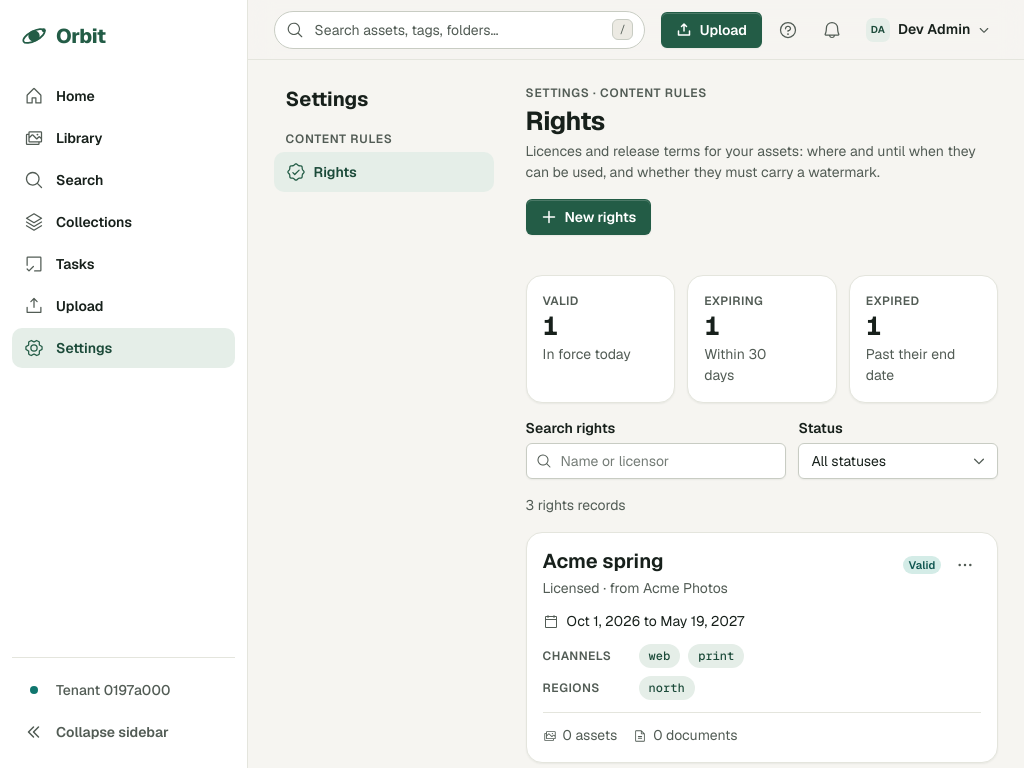
Scenario: rights list › filters by status and by name, keeps both in the URL, and keeps the summary on the whole list
Select "Expiring" in the dropdown labelled "Status" at (898, 461), box x1=798 y1=443 x2=998 y2=479
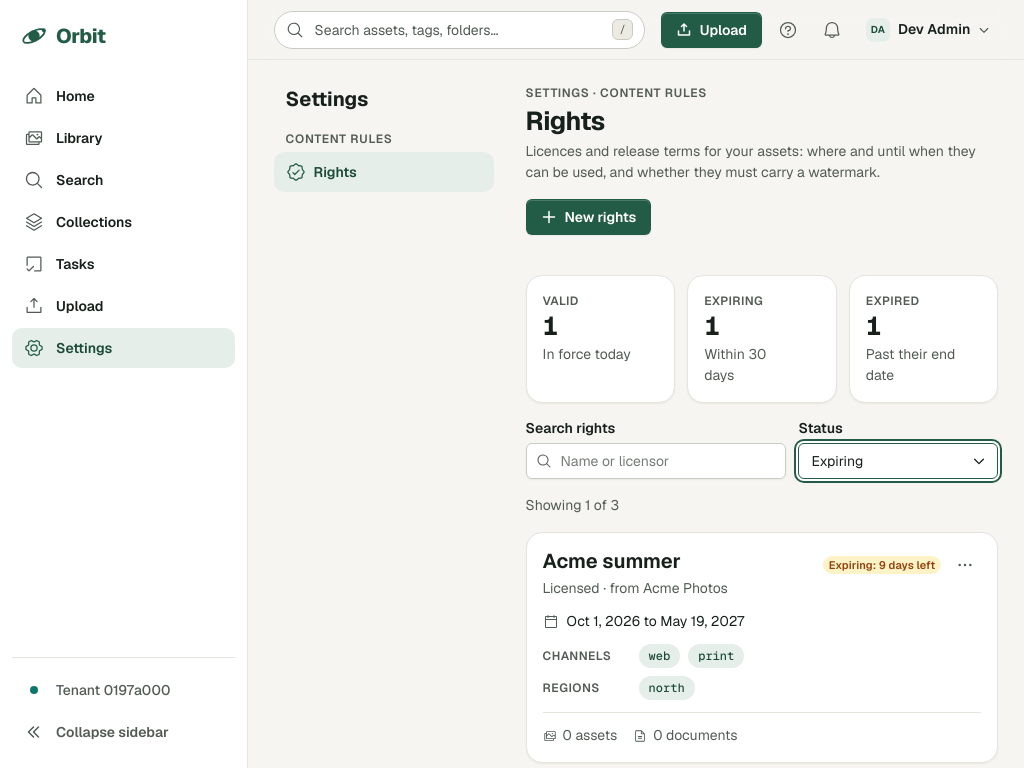
Expected: the heading "Acme summer" is shown, x1=543 y1=549 x2=681 y2=574
Expected: the button "Acme spring" is gone
Expected: the text "Showing 1 of 3" is shown, x1=526 y1=496 x2=619 y2=514
Select "All statuses" in the dropdown labelled "Status" at (898, 461), box x1=798 y1=443 x2=998 y2=479
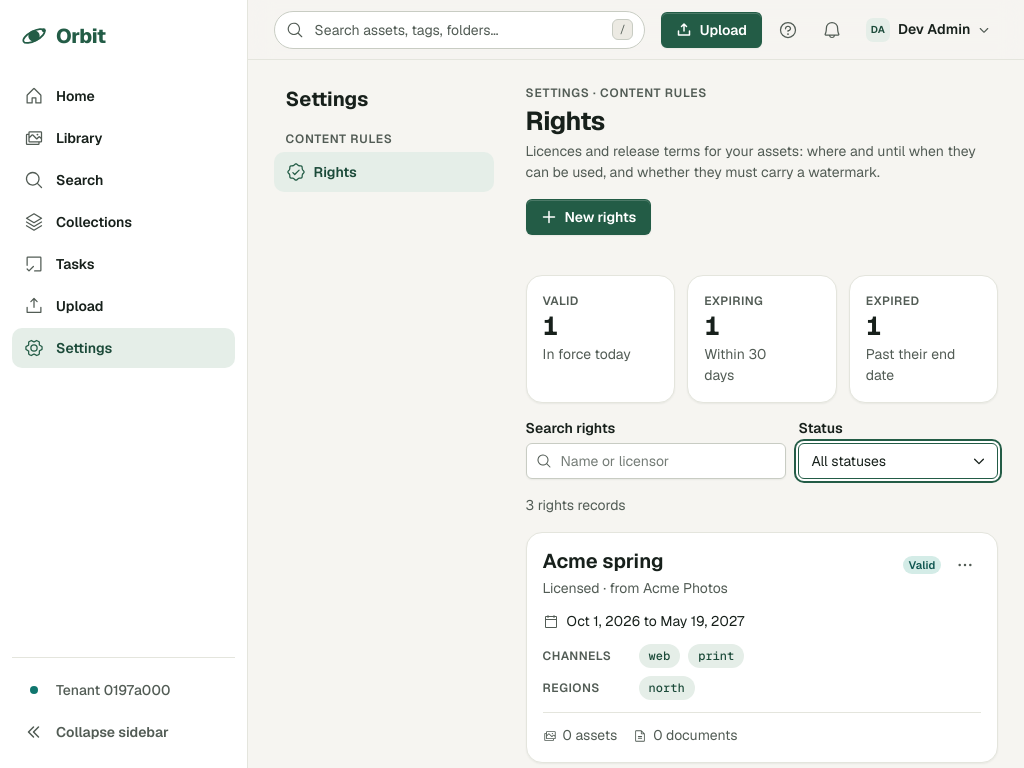
Type "zed" into the search field labelled "Search rights" at (656, 461), box x1=526 y1=443 x2=786 y2=479
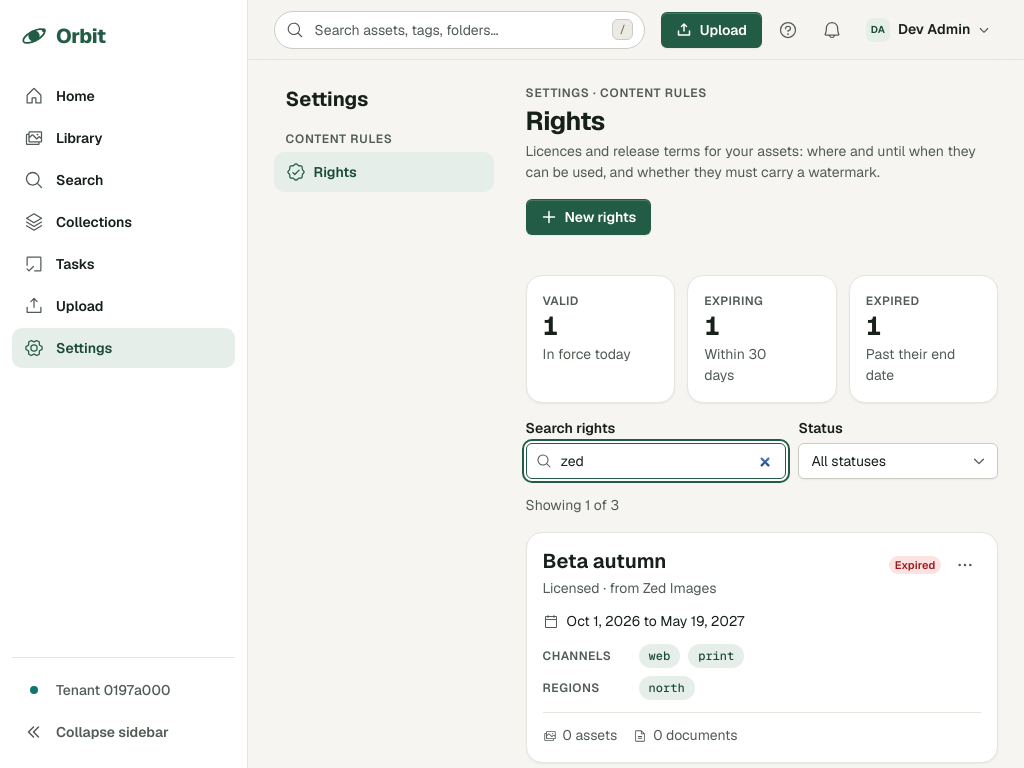
Expected: the heading "Beta autumn" is shown, x1=543 y1=549 x2=666 y2=574
Replace the text in the search field labelled "Search rights" with "nothing like this" at (656, 461), box x1=526 y1=443 x2=786 y2=479
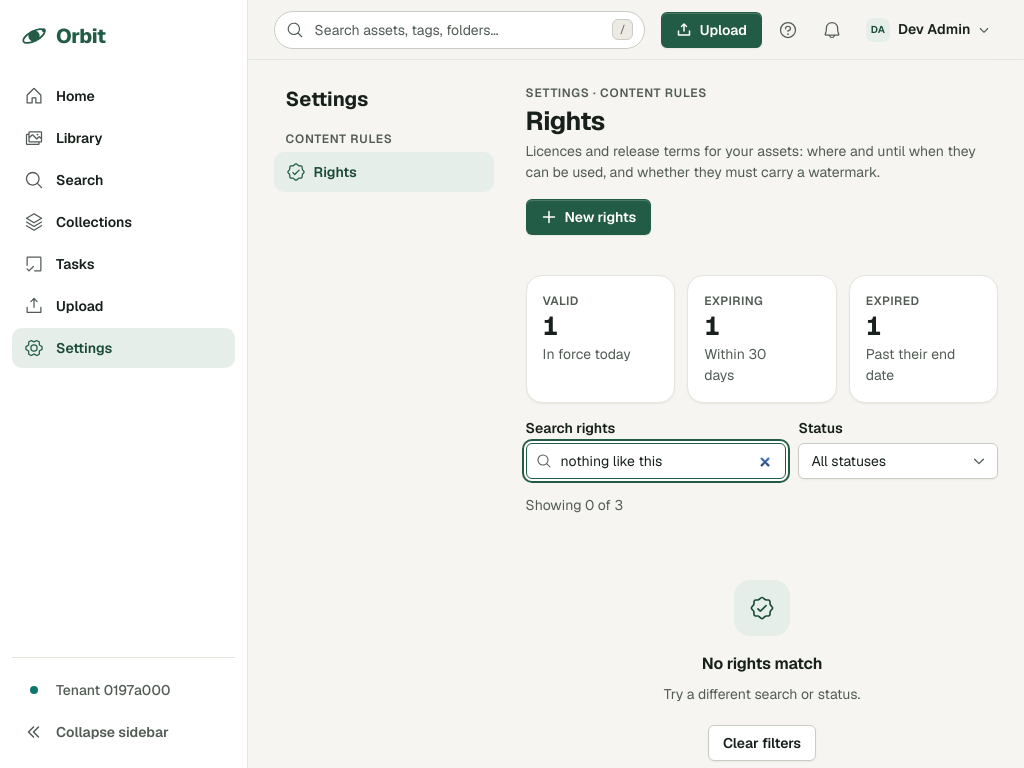
Expected: the heading "No rights match" is shown, x1=702 y1=652 x2=822 y2=676
Click the button "Clear filters" at (762, 743), box x1=708 y1=725 x2=816 y2=761
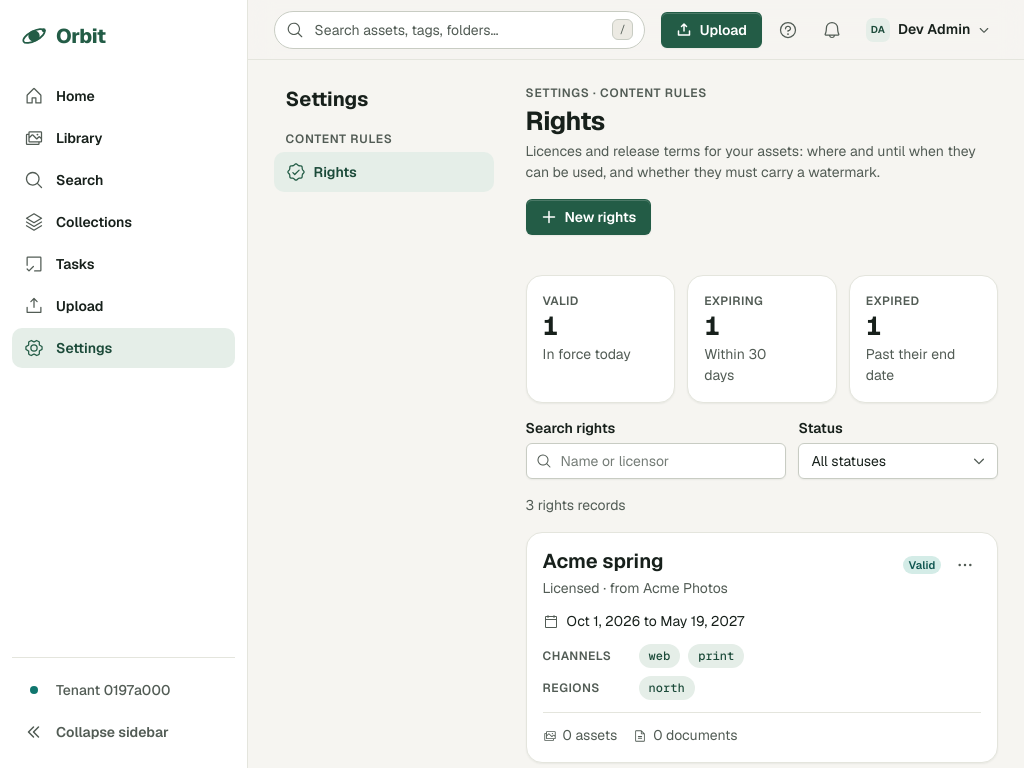
Expected: the heading "Acme spring" is shown, x1=543 y1=549 x2=664 y2=574
